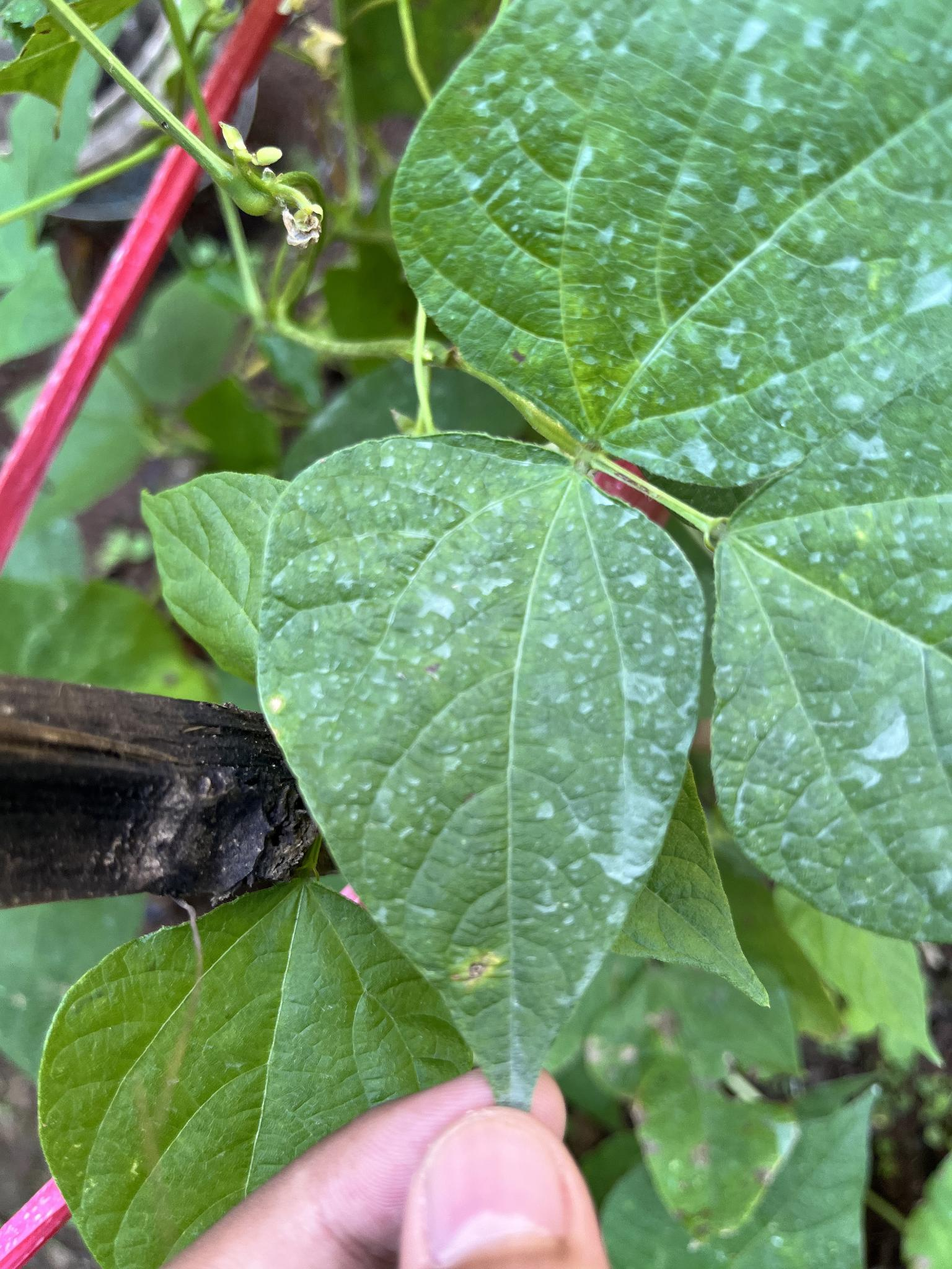embun tepung: (242, 1, 945, 1093)
